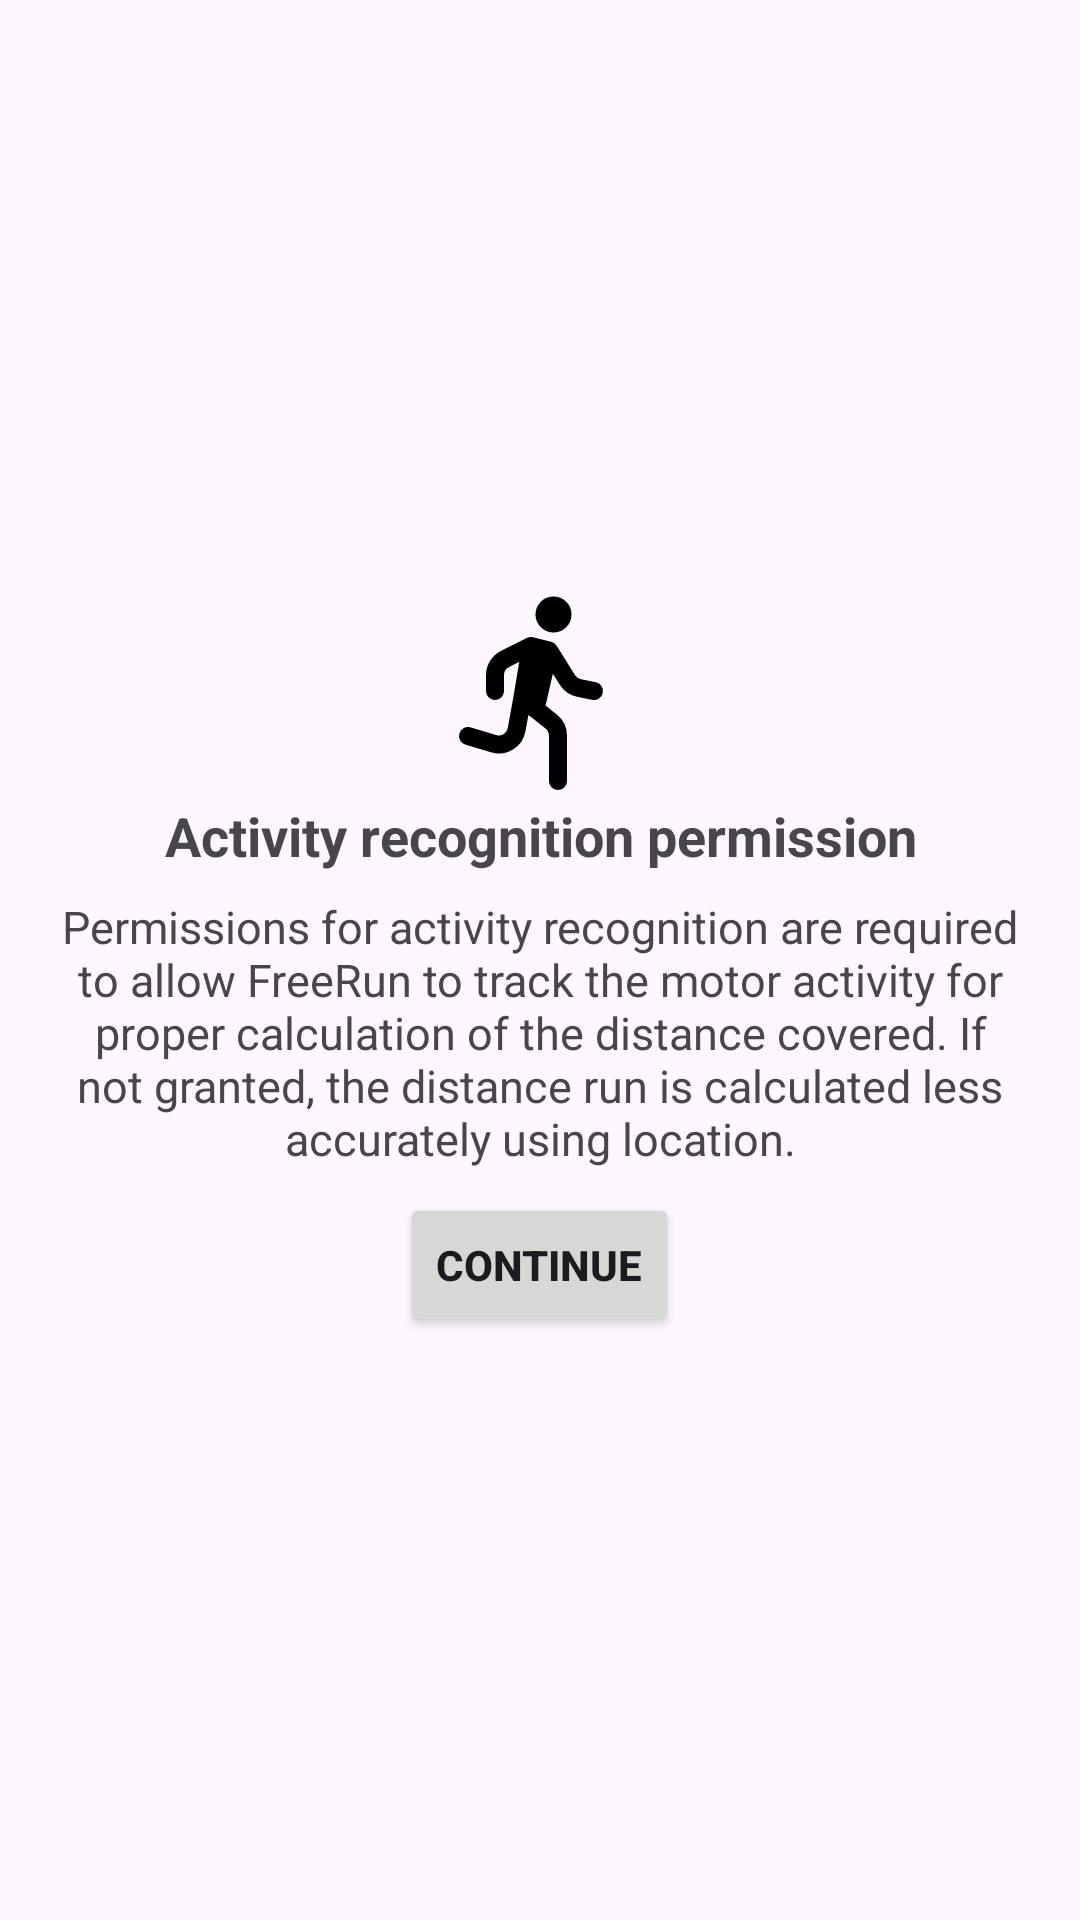

Screen size 1080w x 1920h. Icon name, then its center in pixels as point (x, y):
runner: point (531, 693)
